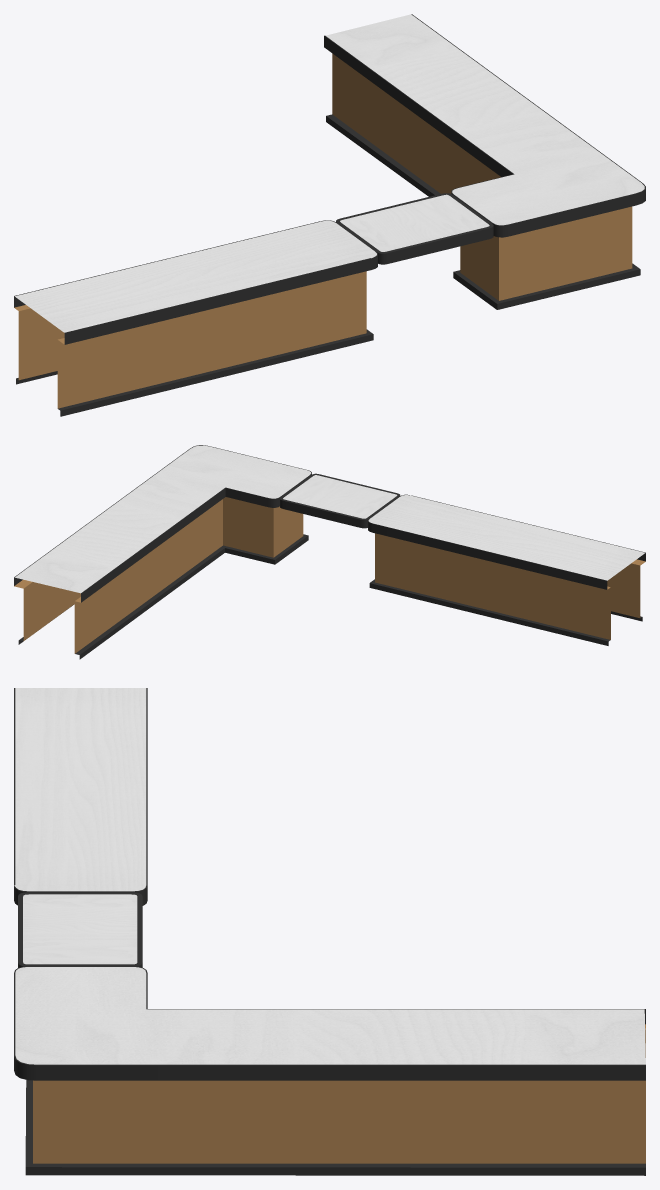
Rendered from Meson-5.FBX.
The picture shows the model from 3 angles, top to bottom: view 1: azimuth 30°, elevation 25°; view 2: azimuth 150°, elevation 25°; view 3: azimuth 270°, elevation 25°; orthographic projection. The views are drawn at different scales.
Visible parts, largest first — view 1: Box013; view 2: Box013; view 3: Box013.
Boxes of the visible parts, box(x1,y1,x2,y2) form: Box013: box(14, 14, 645, 416); Box013: box(14, 445, 645, 659); Box013: box(14, 688, 645, 1175).
Bounding box in the file's own units: 706 × 500 × 100.
